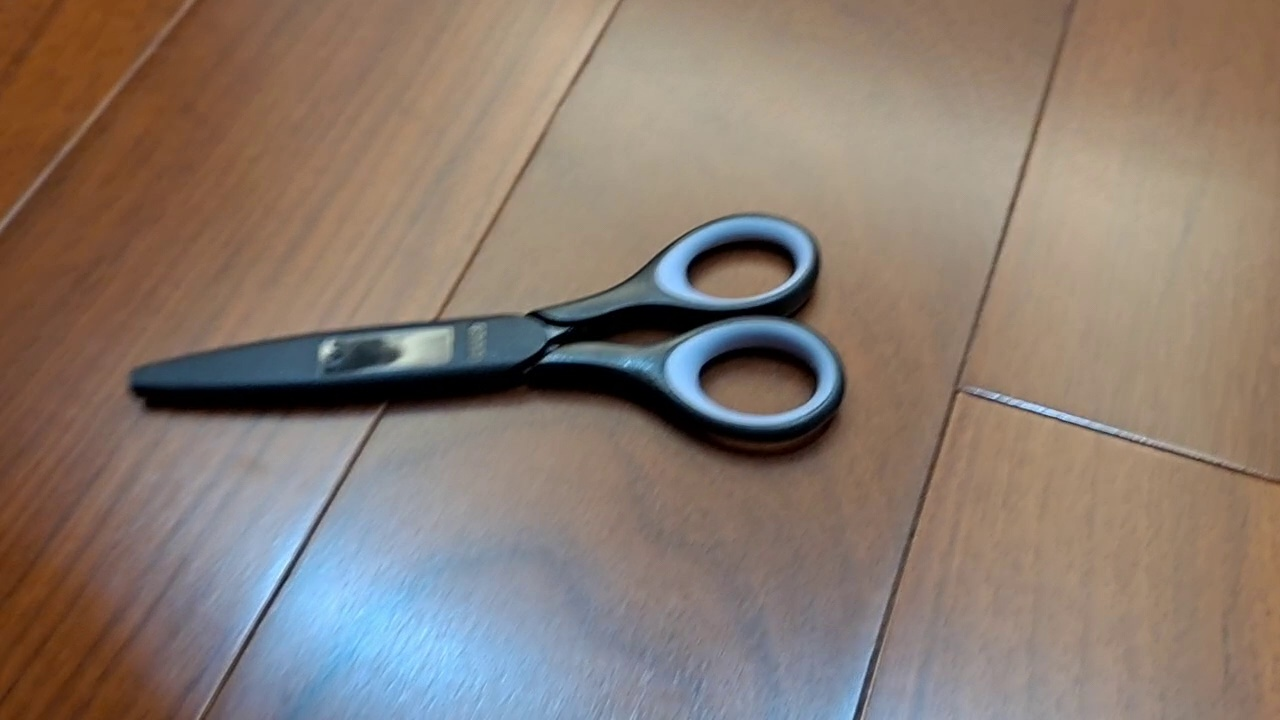scissors: (126, 210, 847, 447)
